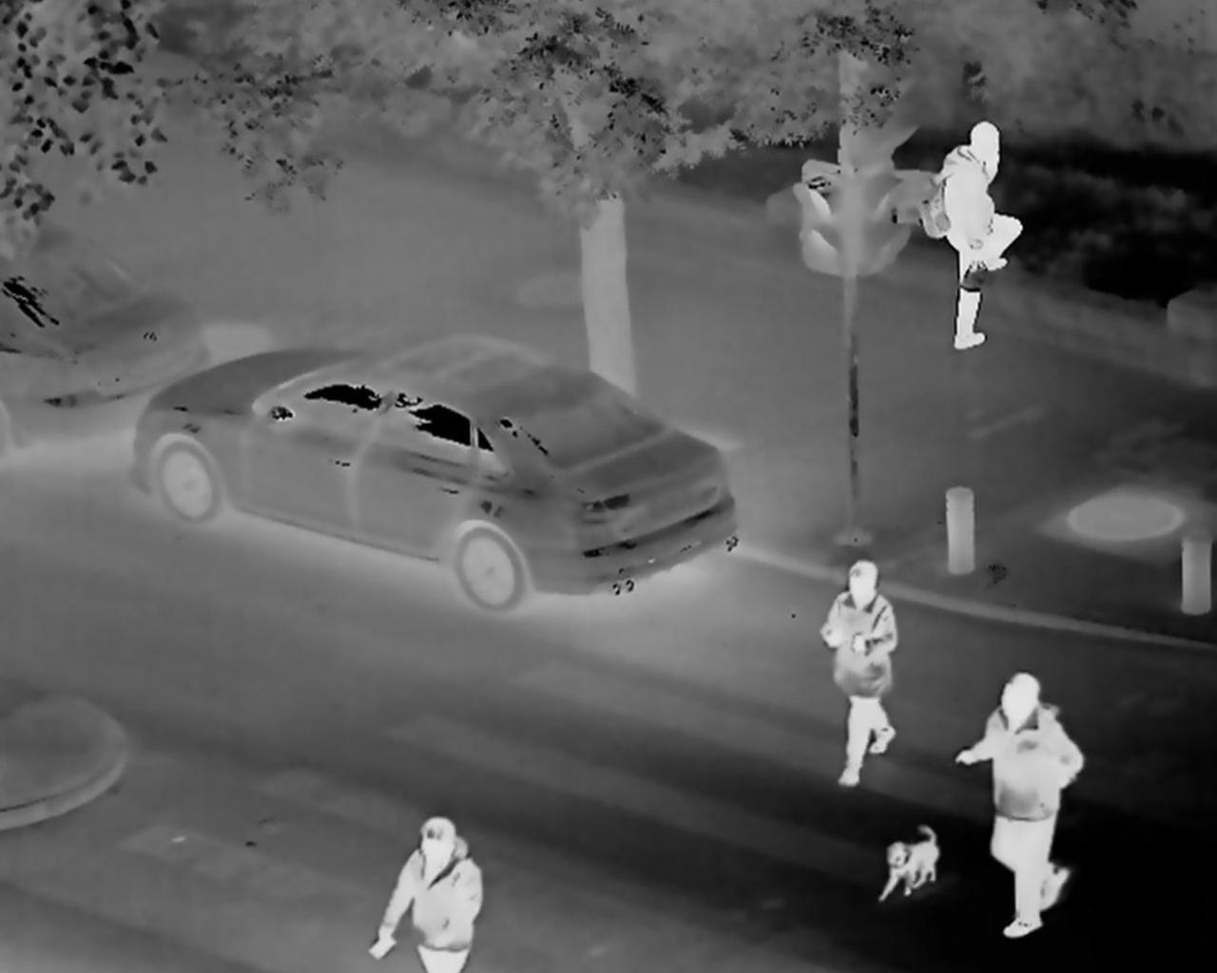person: (956, 675, 1091, 973), (810, 545, 911, 799), (925, 115, 1022, 370), (370, 808, 480, 973)
